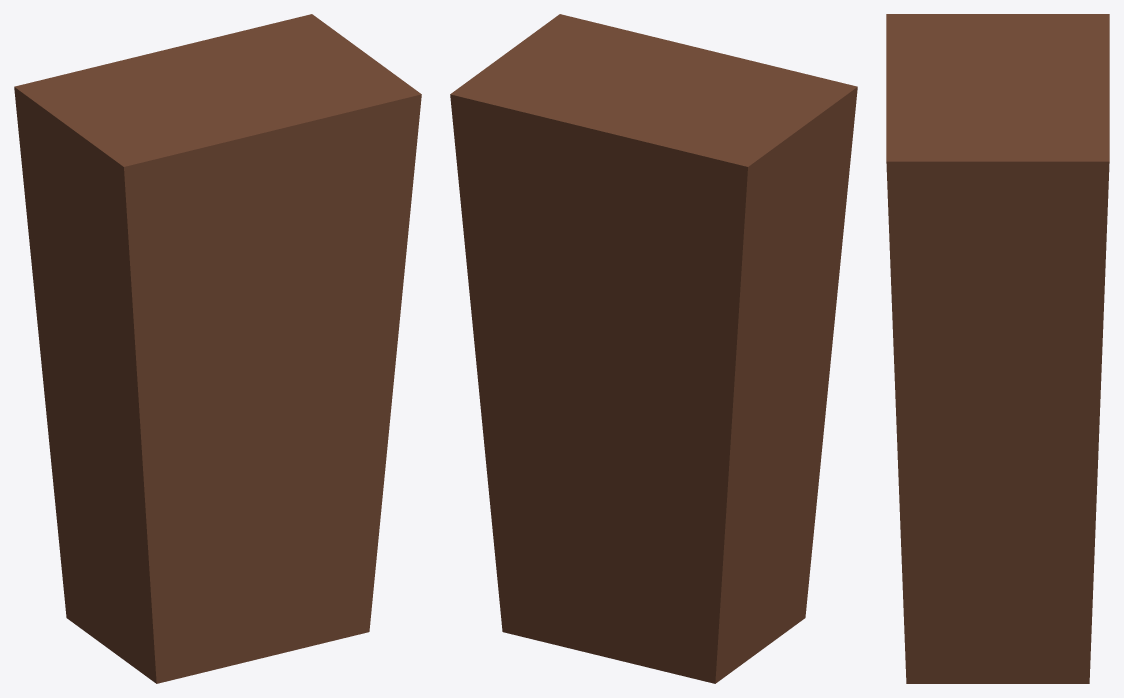
The model's file is wk_shell_hand_glove_v01.glb.
3 views of the same model, side by side, from view 1: azimuth 30°, elevation 25°; view 2: azimuth 150°, elevation 25°; view 3: azimuth 270°, elevation 25° (orthographic).
Visible parts, largest first — view 1: GEO_Glove; view 2: GEO_Glove; view 3: GEO_Glove.
Boxes of the visible parts, bbox=[...] form: GEO_Glove: bbox=[14, 14, 421, 683]; GEO_Glove: bbox=[450, 14, 857, 683]; GEO_Glove: bbox=[886, 14, 1109, 683].
Size of the model in its own units: 0.105 by 0.18 by 0.067.
